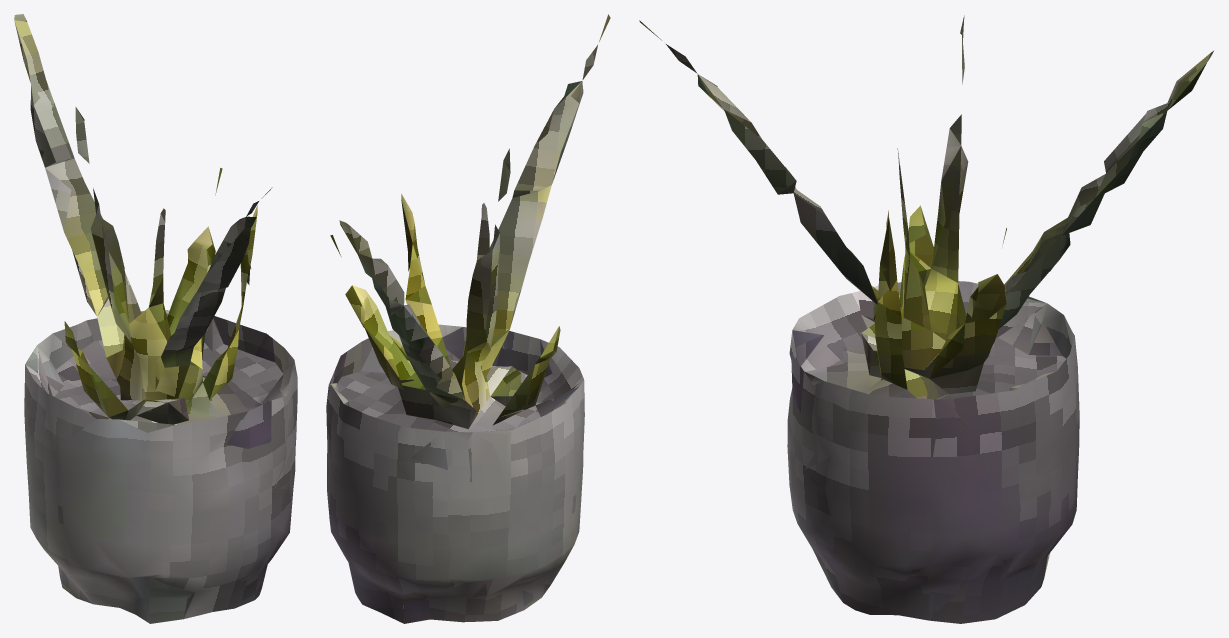
The model's file is g_aloe.glb.
3 renders of one model, left to right at view 1: azimuth 30°, elevation 25°; view 2: azimuth 150°, elevation 25°; view 3: azimuth 270°, elevation 25°, orthographic. The views are drawn at different scales.
Parts seen in each view (by area): view 1: mesh; view 2: mesh; view 3: mesh.
Part boxes in pixels (x1=…): mesh: x1=14, y1=14, x2=297, y2=623; mesh: x1=326, y1=14, x2=610, y2=623; mesh: x1=639, y1=15, x2=1213, y2=623.
Size of the model in its own units: 0.0579 by 0.12 by 0.1143.
1 material, 1 textured.
